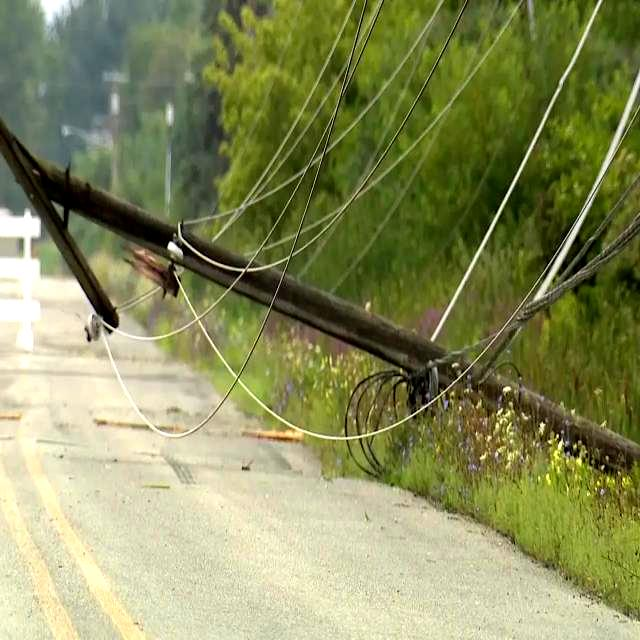Broken Pole: (0, 117, 640, 478)
